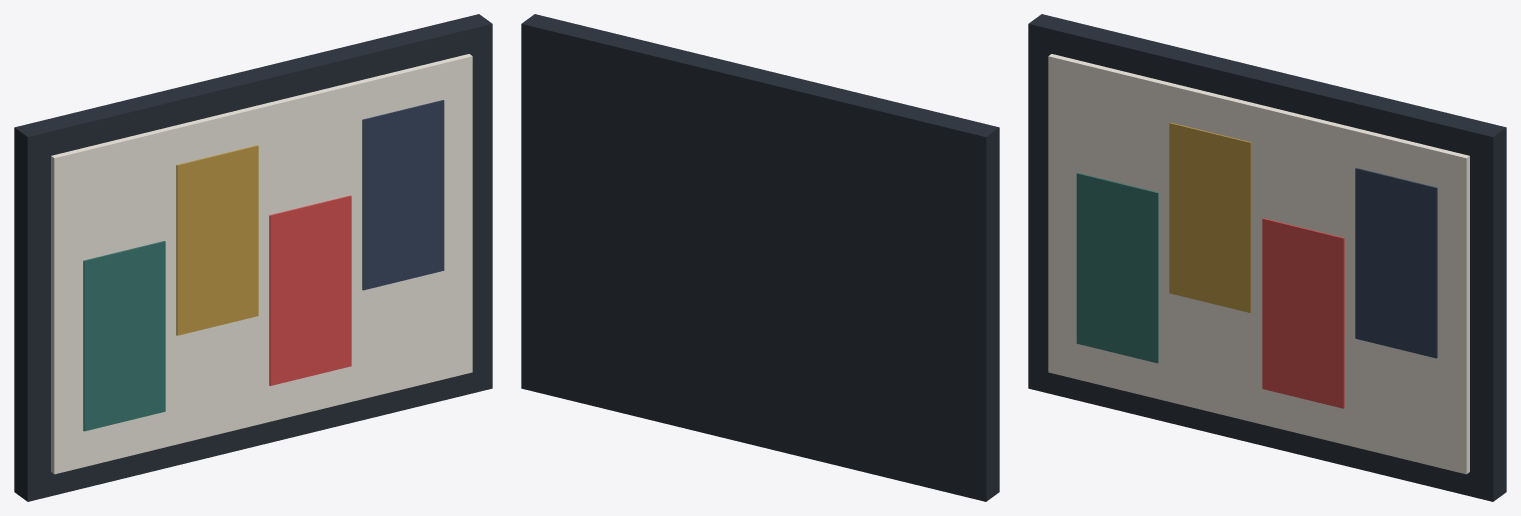
File: wallArt.glb
3 views of the same model, side by side, from view 1: azimuth 30°, elevation 25°; view 2: azimuth 150°, elevation 25°; view 3: azimuth 330°, elevation 25° (orthographic).
Size of the model in its own units: 0.8 by 0.6 by 0.0525.
